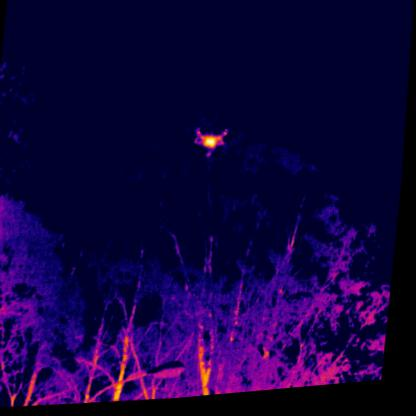drone: (195, 130, 230, 163)
